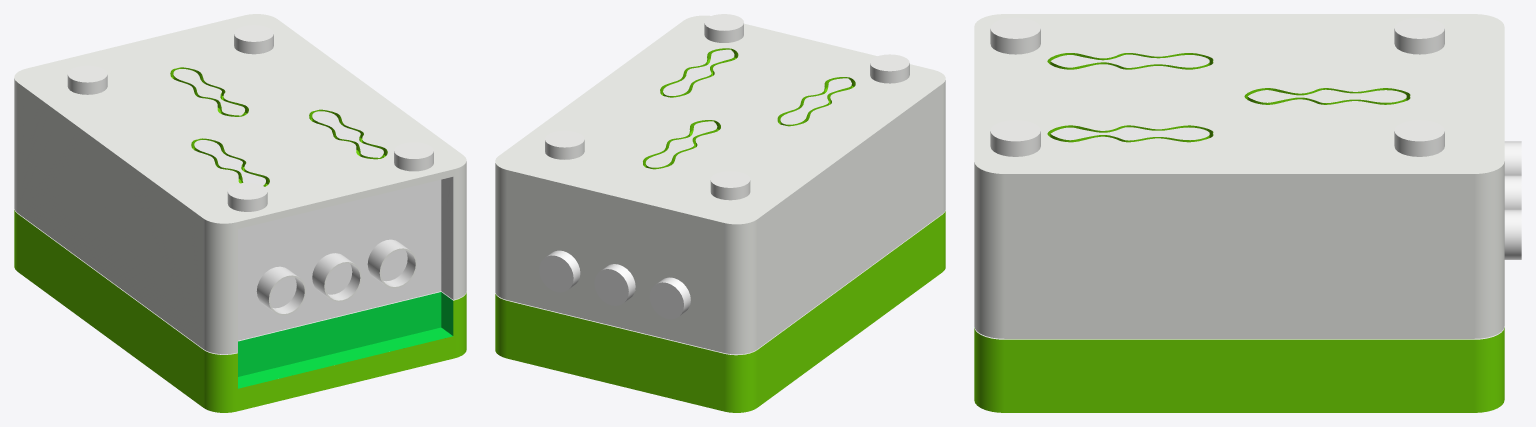
File: tile-three-tiao.glb
The picture shows the model from 3 angles, left to right: view 1: azimuth 30°, elevation 25°; view 2: azimuth 150°, elevation 25°; view 3: azimuth 270°, elevation 25°; orthographic projection. The views are drawn at different scales.
Size of the model in its own units: 0.0375 by 0.0278 by 0.0542.
